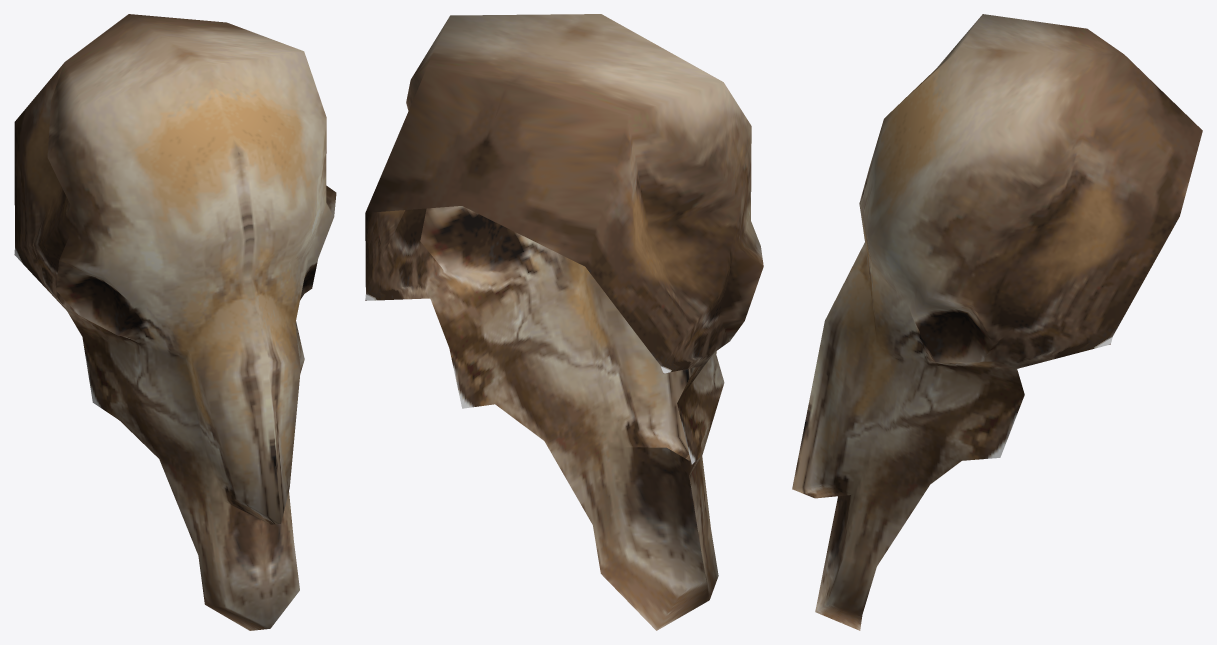
File: Item_5007_gutou_kulutou.FBX
3 views of the same model, side by side, from view 1: azimuth 30°, elevation 25°; view 2: azimuth 150°, elevation 25°; view 3: azimuth 270°, elevation 25° (orthographic). The views are drawn at different scales.
Visible parts, largest first — view 1: Item_5007_gutou_kulutou; view 2: Item_5007_gutou_kulutou; view 3: Item_5007_gutou_kulutou.
Part boxes in pixels (<box>): Item_5007_gutou_kulutou: <box>14,14,336,630</box>; Item_5007_gutou_kulutou: <box>365,14,763,630</box>; Item_5007_gutou_kulutou: <box>792,14,1202,630</box>.
Bounding box in the file's own units: 135 × 247 × 158.
